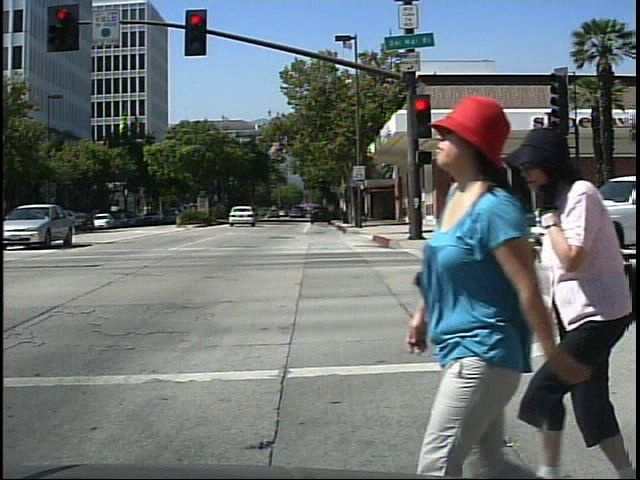person: (414, 70, 599, 479), (520, 118, 631, 479)
